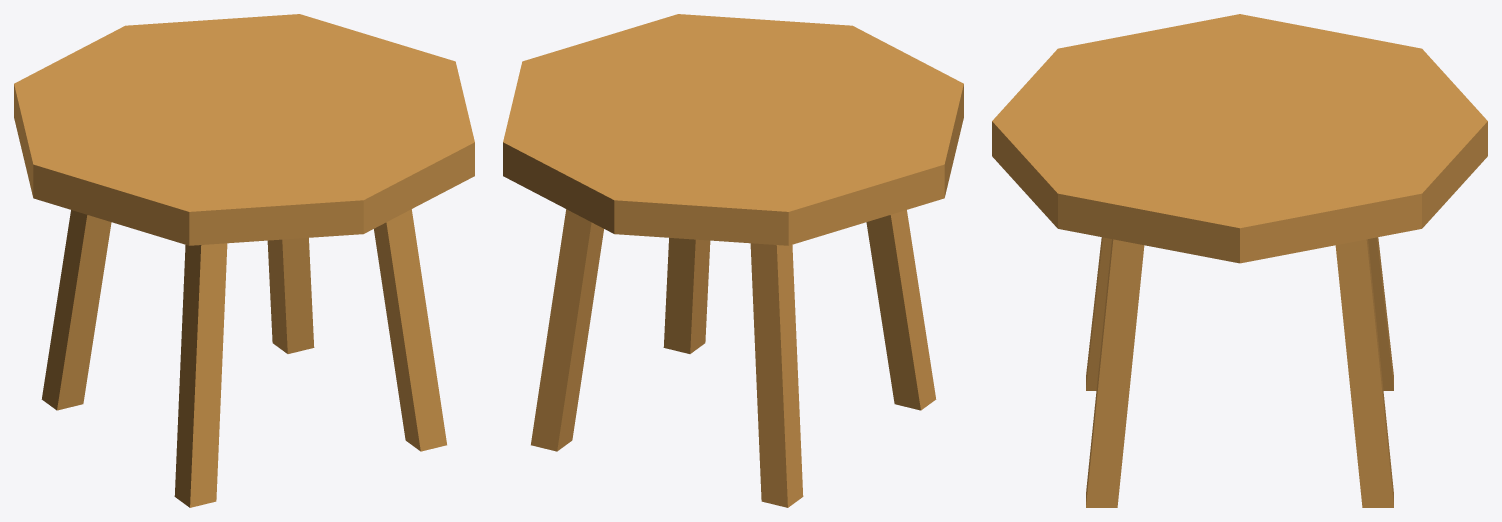
Rendered from table.glb.
3 views of the same model, side by side, from view 1: azimuth 30°, elevation 25°; view 2: azimuth 150°, elevation 25°; view 3: azimuth 270°, elevation 25° (orthographic). The views are drawn at different scales.
Visible parts, largest first — view 1: Cube; view 2: Cube; view 3: Cube.
Boxes of the visible parts, x1,y1,x2,y2 form: Cube: [14, 14, 474, 507]; Cube: [503, 14, 963, 507]; Cube: [992, 14, 1487, 507].
Bounding box in the file's own units: 3.26 × 2.28 × 3.18.
